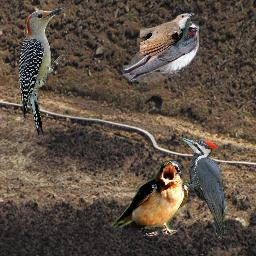Cuckoo: (140, 13, 195, 56)
Swallow: (111, 160, 189, 236), (123, 21, 199, 82)
Woodpecker: (19, 5, 67, 142), (173, 136, 230, 240)
